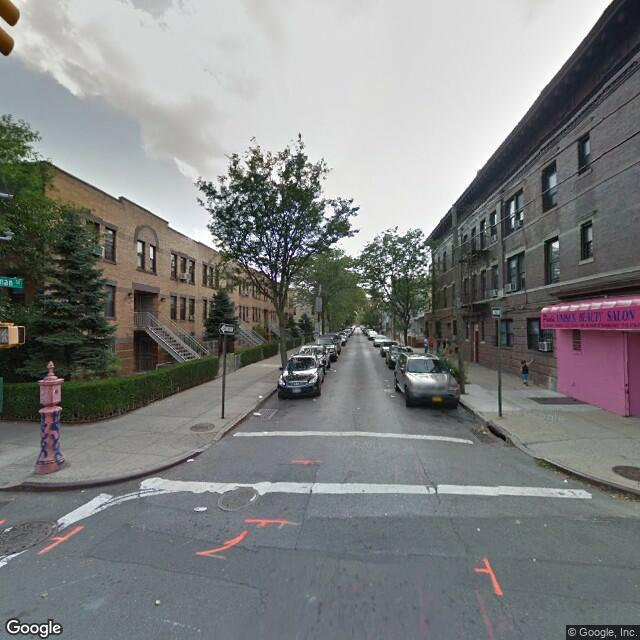litter: (252, 393, 275, 402), (253, 412, 268, 420)
